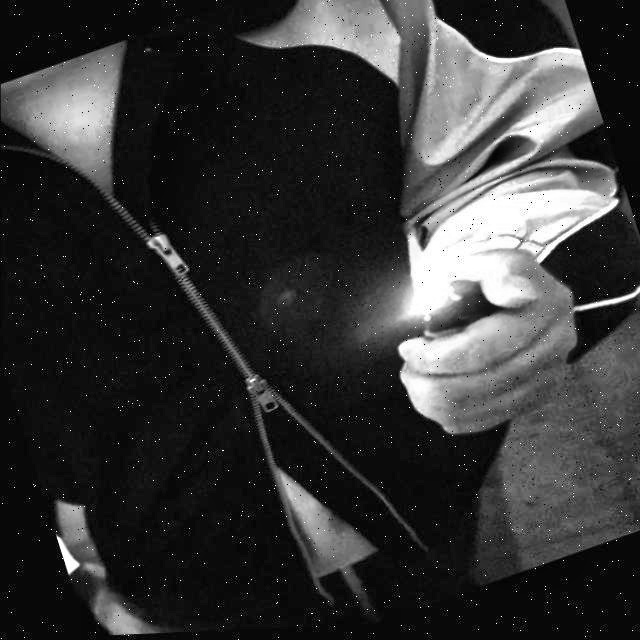Fire: (391, 227, 442, 315)
